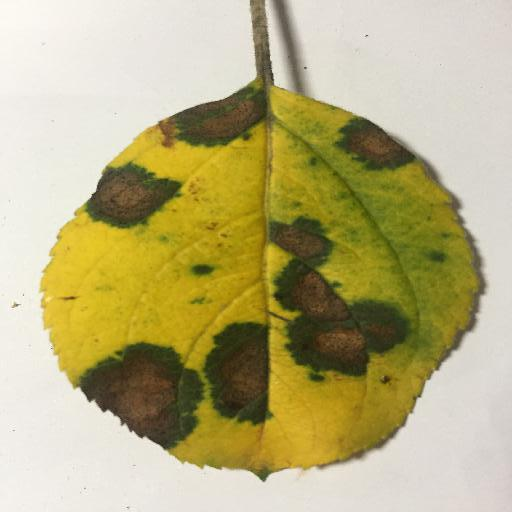Brown_Spot: (285, 272, 395, 370), (86, 350, 196, 445), (210, 330, 274, 412), (92, 167, 167, 216), (337, 121, 408, 171), (168, 102, 258, 139), (275, 220, 322, 253)
